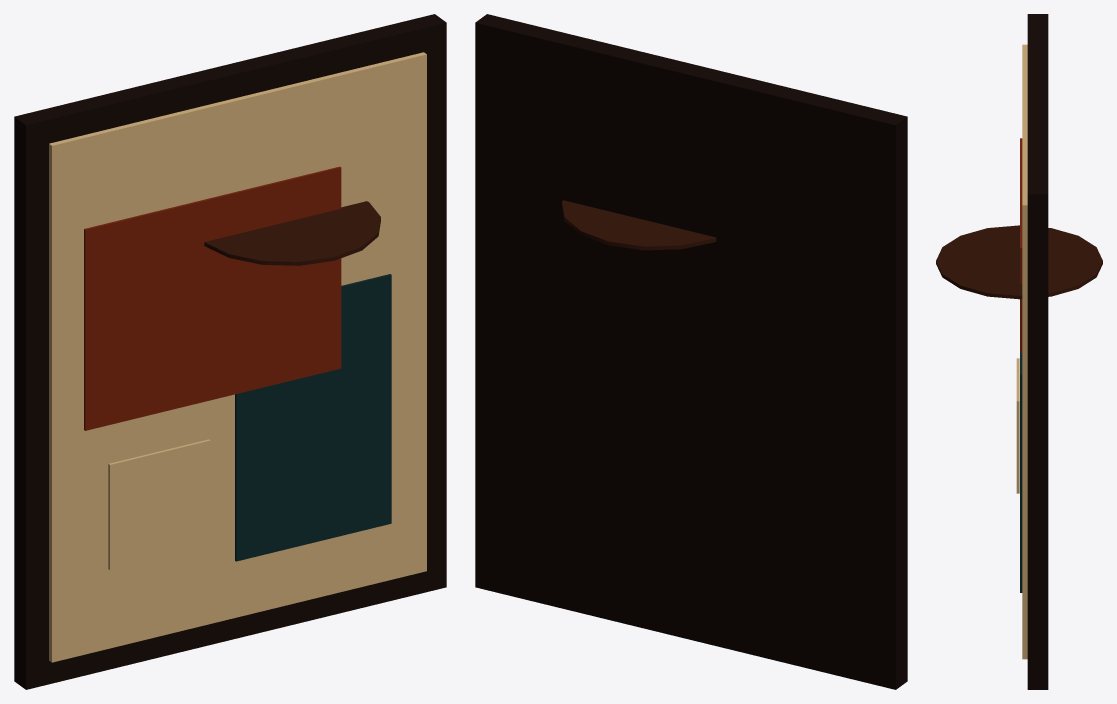
The model's file is art_frame.glb.
The picture shows the model from 3 angles, left to right: view 1: azimuth 30°, elevation 25°; view 2: azimuth 150°, elevation 25°; view 3: azimuth 270°, elevation 25°; orthographic projection. The views are drawn at different scales.
Visible parts, largest first — view 1: art_frame; view 2: art_frame; view 3: art_frame.
Boxes of the visible parts, x1,y1,x2,y2 form: art_frame: [14, 14, 446, 689]; art_frame: [475, 14, 907, 689]; art_frame: [936, 14, 1102, 689].
Size of the model in its own units: 0.92 by 1.18 by 0.36.
